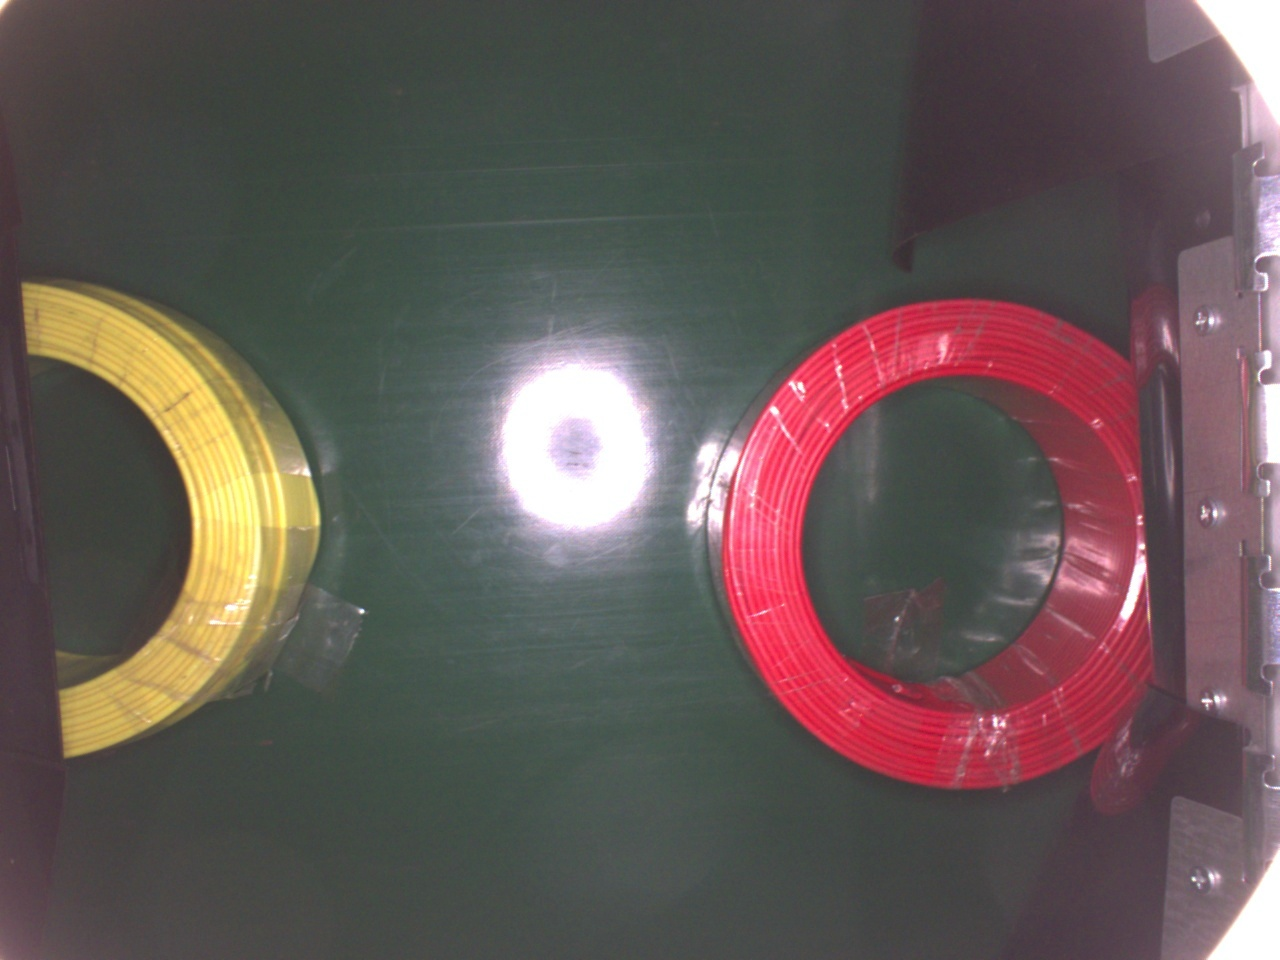red: (702, 289, 1148, 805)
yellow: (10, 273, 326, 763)
